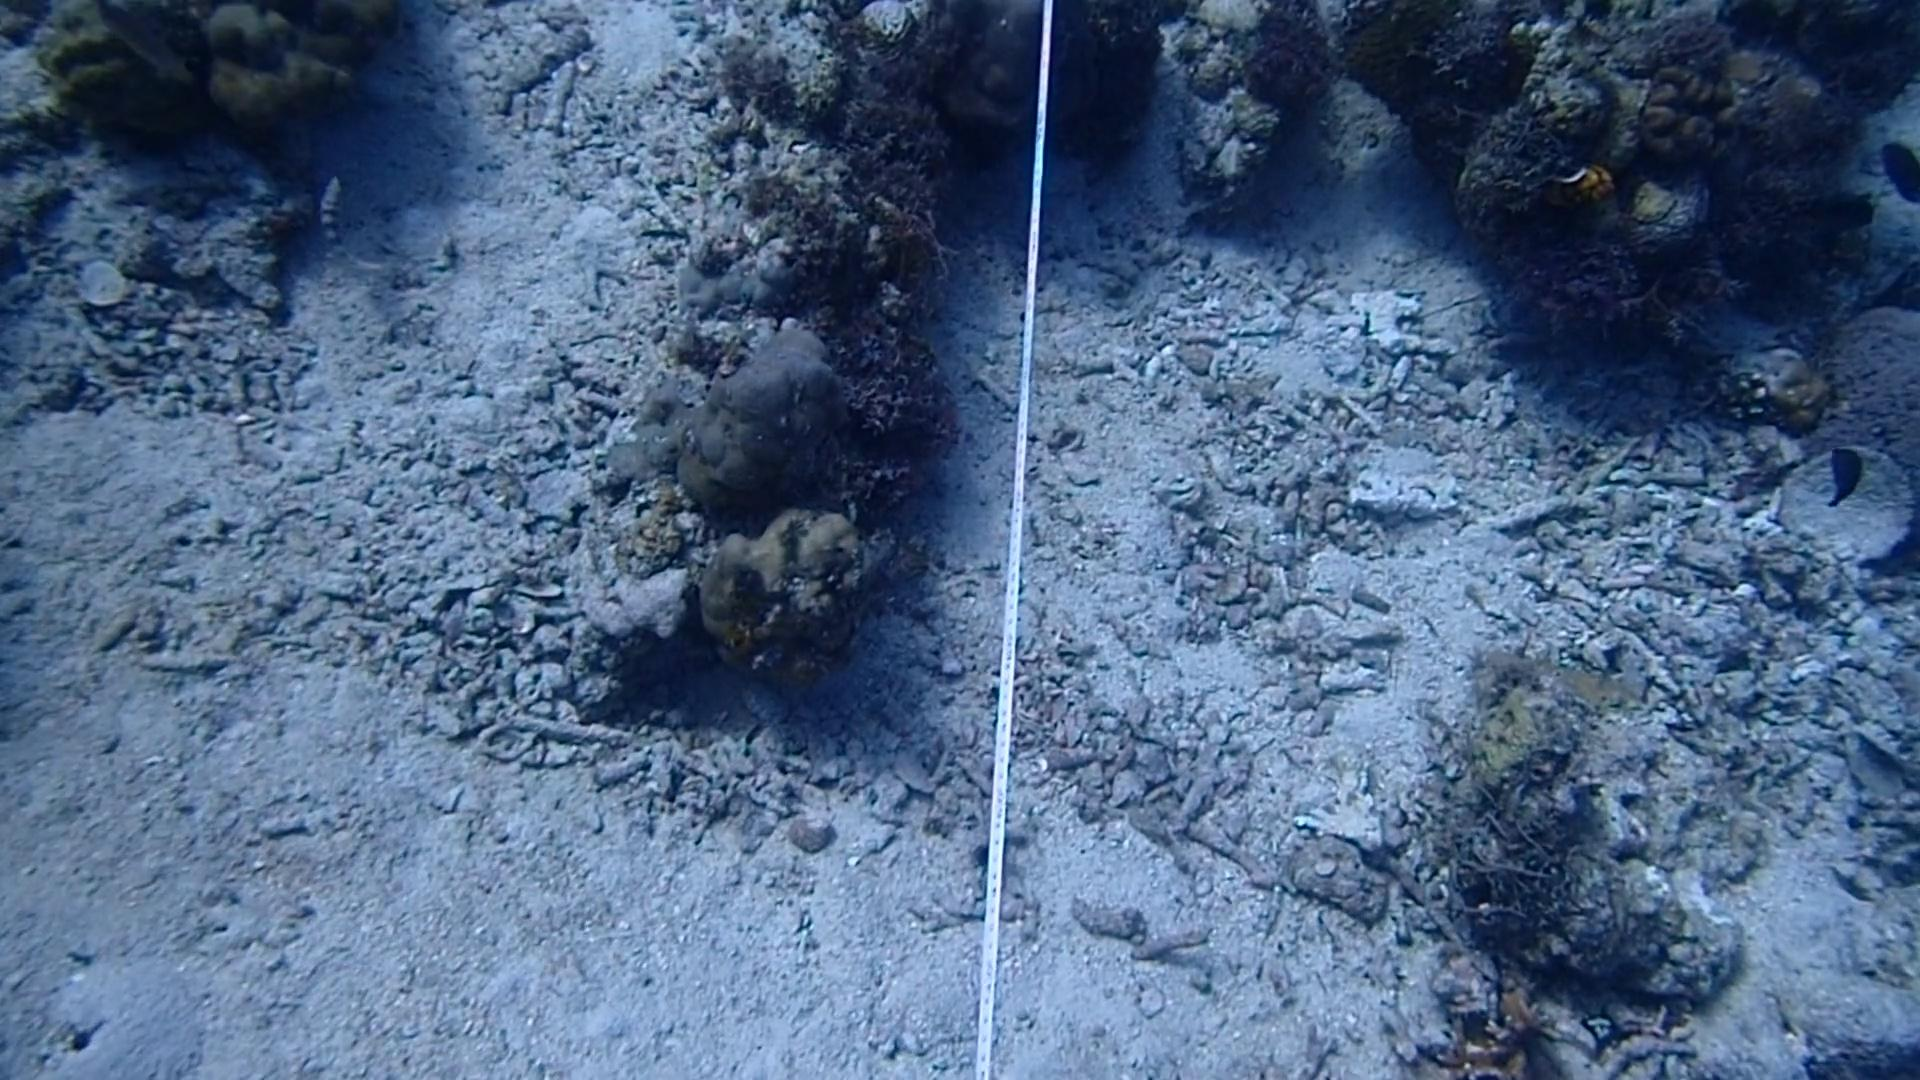Dark Fish: (1807, 435, 1884, 527), (1871, 129, 1920, 212)
Light Fish w Back Stripes: (306, 166, 401, 280)
